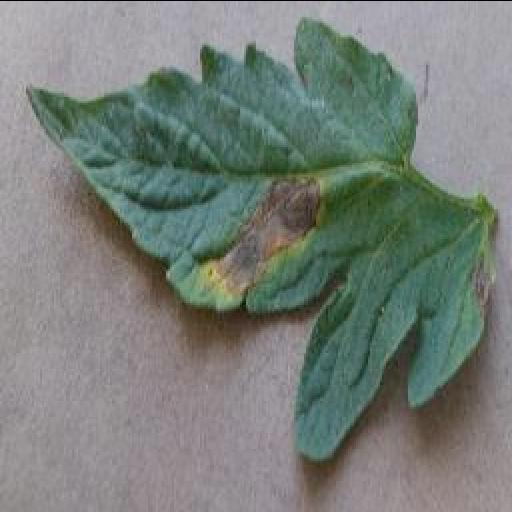disease_tomato: (16, 10, 502, 458)
